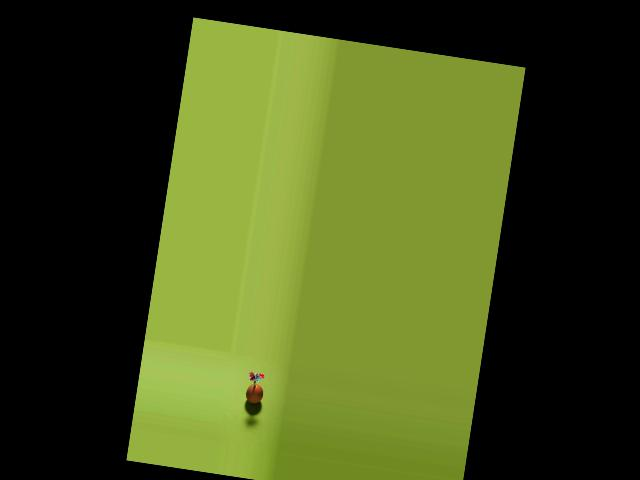egg: (244, 382, 264, 404)
